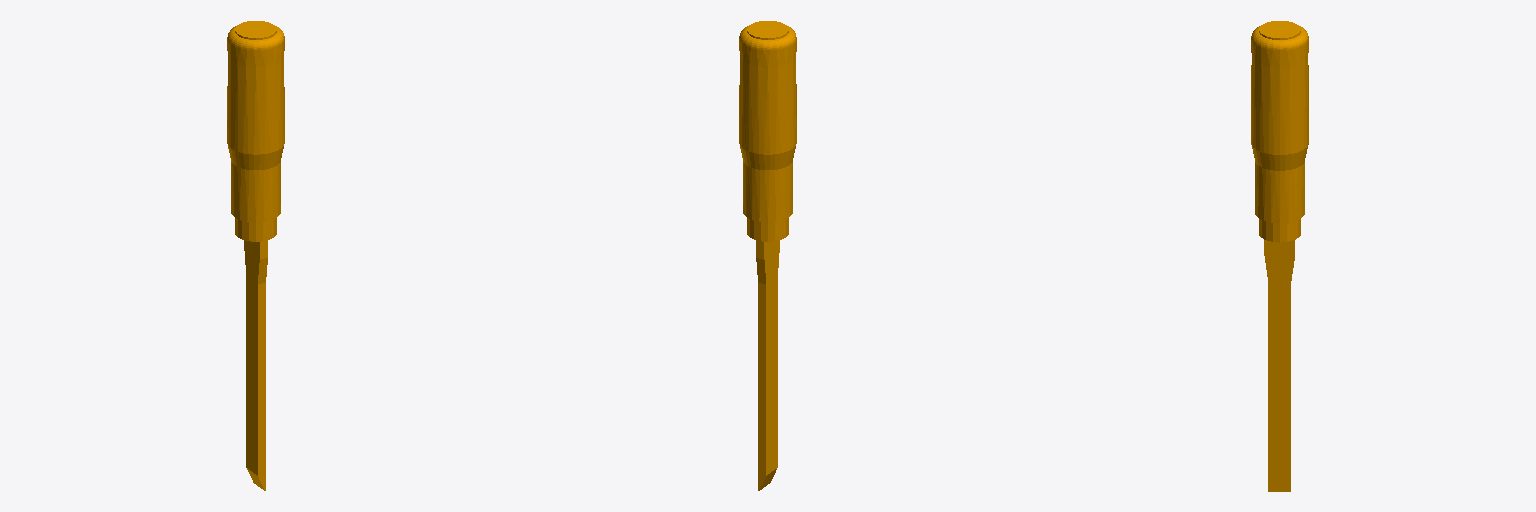
The robot description file, URDF, robot "chisel_1_L0.70_T0.70":
<?xml version="1.0" encoding="utf-8"?>
<robot name="chisel_1_L0.70_T0.70">
  <link name="chisel_1_L0.70_T0.70Link">
    <contact>
      <lateral_friction value="1"/>
    </contact>
    <inertial>
      <origin rpy="0 0 0" xyz="0 0 0"/>
      <mass value="0.0"/>
      <inertia ixx="0" ixy="0" ixz="0" iyy="0" iyz="0" izz="0"/>
    </inertial>
    <visual>
      <origin rpy="0 0 0" xyz="0 0 0"/>
      <geometry>
        <mesh filename="generated_stl/chisel/chisel_1/chisel_1_L0.70_T0.70/chisel_1_L0.70_T0.70.stl" scale="0.01 0.01 0.01"/>
      </geometry>
    </visual>
    <collision>
      <origin rpy="0 0 0" xyz="0 0 0"/>
      <geometry>
        <mesh filename="generated_stl/chisel/chisel_1/chisel_1_L0.70_T0.70/chisel_1_L0.70_T0.70.stl" scale="0.01 0.01 0.01"/>
      </geometry>
    </collision>
  </link>
</robot>

--- Render facts (derived) ---
3 views of the same robot in one strip: view 1: azimuth 30°, elevation 25°; view 2: azimuth 150°, elevation 25°; view 3: azimuth 270°, elevation 25° (orthographic).
Model chisel_1_L0.70_T0.70 with 1 links and 0 joints (none), rooted at chisel_1_L0.70_T0.70Link, posed all joints at 0.
Links seen in each view (by area): view 1: chisel_1_L0.70_T0.70Link; view 2: chisel_1_L0.70_T0.70Link; view 3: chisel_1_L0.70_T0.70Link.
Boxes of the visible links, x1,y1,x2,y2 form: chisel_1_L0.70_T0.70Link: (227,21,284,490); chisel_1_L0.70_T0.70Link: (739,21,796,490); chisel_1_L0.70_T0.70Link: (1251,21,1308,491).
Bounding box of the posed robot: 0.035 × 0.035 × 0.3075 m (x, y, z).
1 mesh visuals loaded from 1 distinct referenced files (1 binary STL).